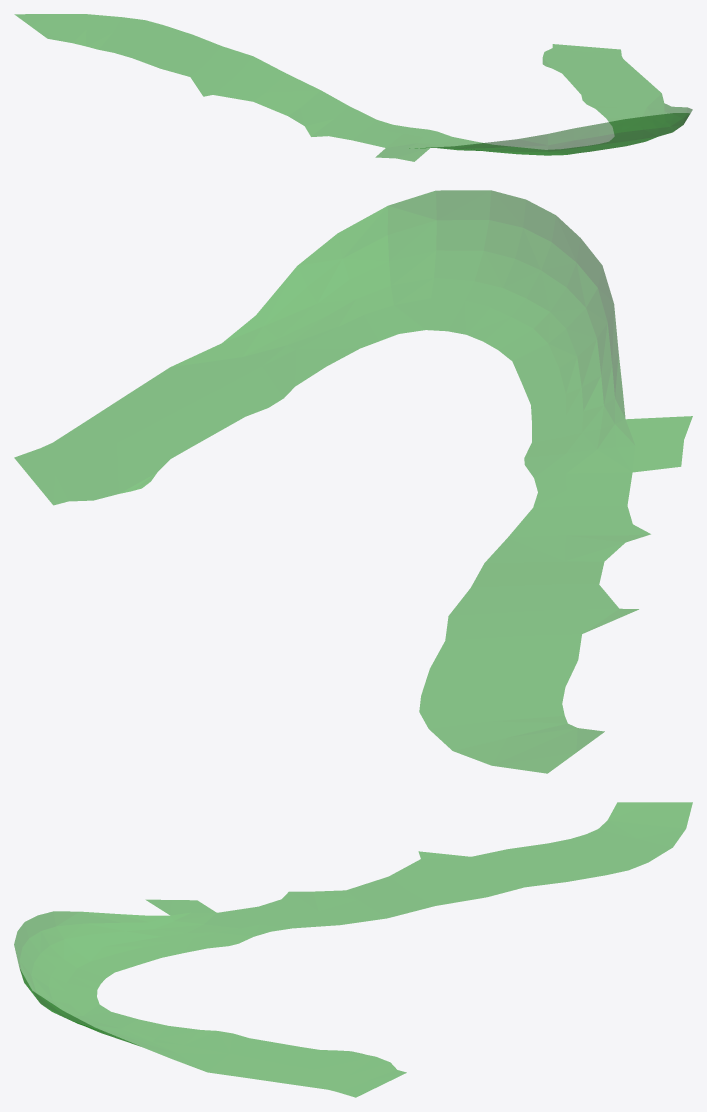
Rendered from road2.obj.
3 views of the same model, one above another, from view 1: azimuth 30°, elevation 25°; view 2: azimuth 150°, elevation 25°; view 3: azimuth 270°, elevation 25° (orthographic). The views are drawn at different scales.
Bounding box in the file's own units: 182 × 28.72 × 207.
